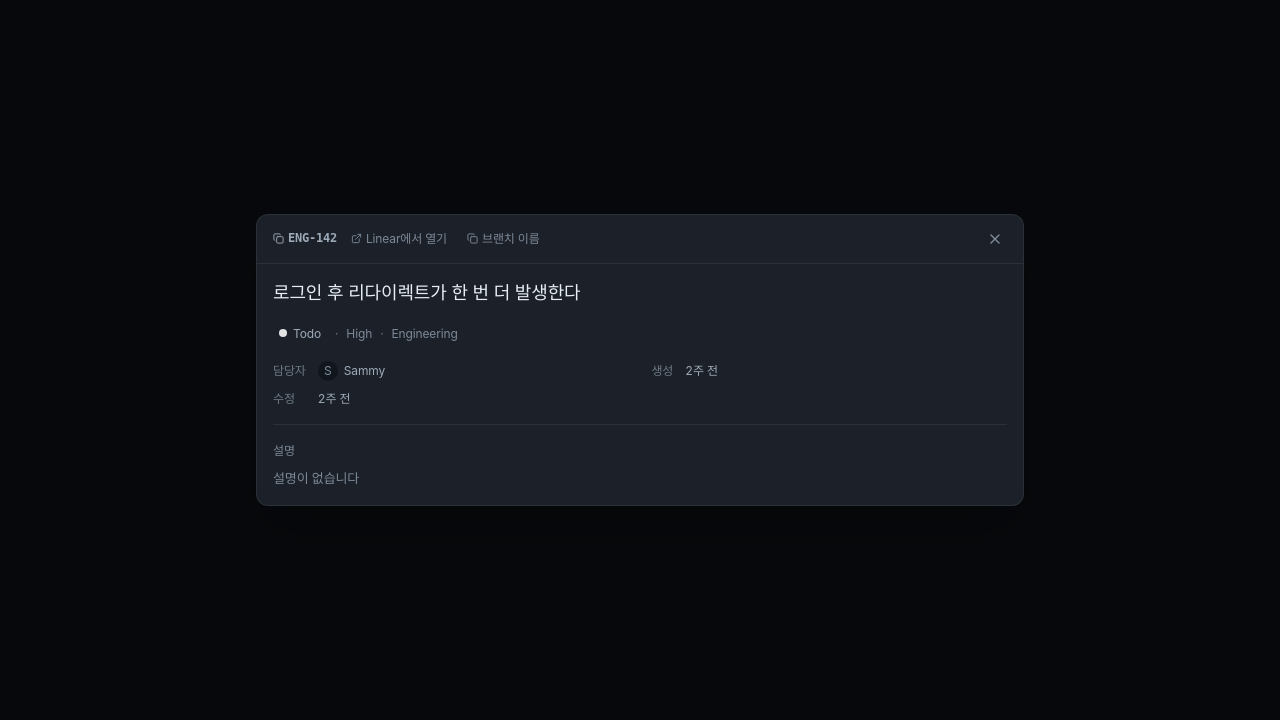
Test: IssueDetailModal › 브랜치 복사 실패를 헤더에 남긴다
Click the button titled "브랜치 이름 복사: feature/eng-142": (503, 239) [461, 227, 546, 250]
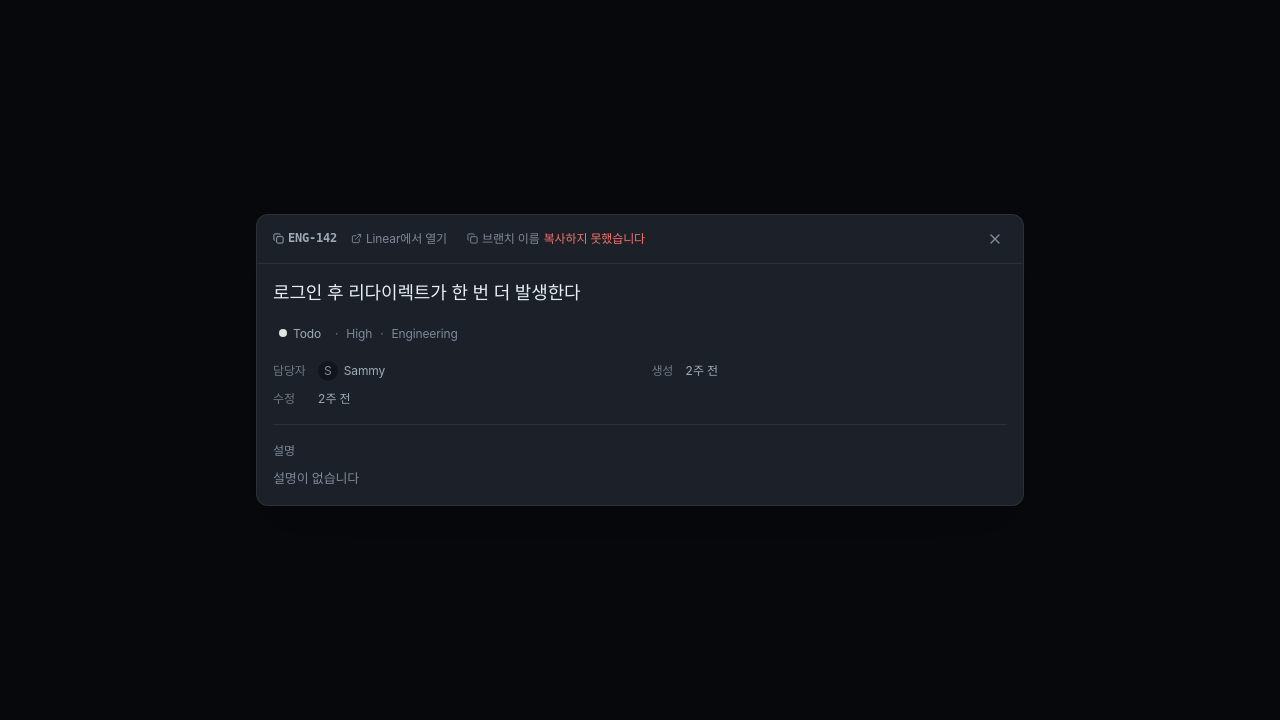
Expected: the text "복사하지 못했습니다" is shown, [544, 229, 645, 248]
